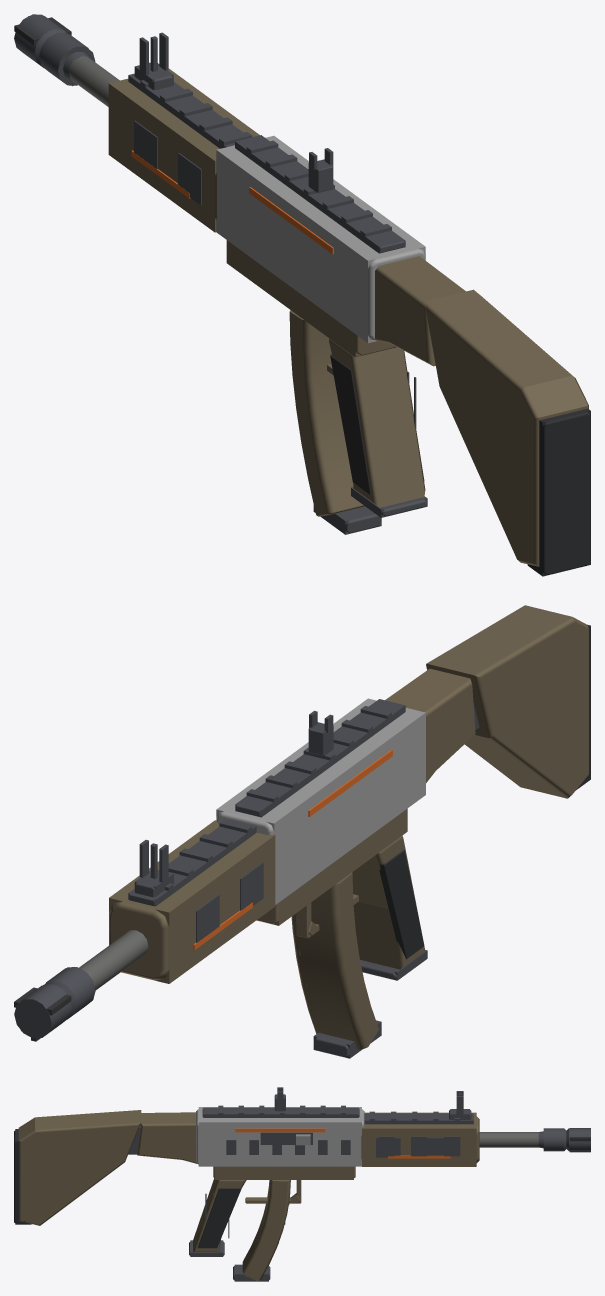
Rendered from s_cinder.glb.
3 views of the same model, one above another, from view 1: azimuth 30°, elevation 25°; view 2: azimuth 150°, elevation 25°; view 3: azimuth 270°, elevation 25° (orthographic). The views are drawn at different scales.
Visible parts, largest first — view 1: L0, L1; view 2: L0, L1; view 3: L0, L1.
Boxes of the visible parts, left/top/right/bottom form: L0: left=14, top=14, right=590, bottom=575; L1: left=16, top=16, right=590, bottom=576; L0: left=14, top=605, right=590, bottom=1057; L1: left=14, top=624, right=590, bottom=1058; L0: left=14, top=1087, right=590, bottom=1280; L1: left=15, top=1091, right=590, bottom=1281.
Bounding box in the file's own units: 0.0527 × 0.2525 × 0.7058.
